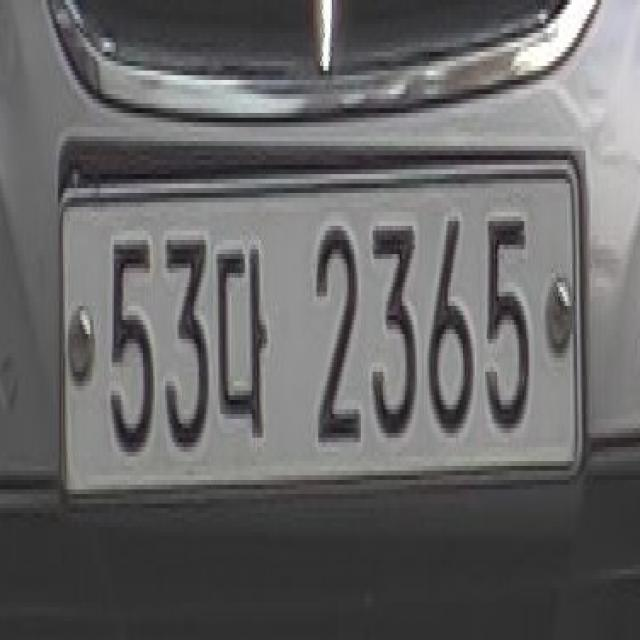2: (310, 207, 376, 485)
3: (158, 212, 216, 461), (369, 207, 422, 461)
5: (478, 193, 543, 452), (95, 226, 162, 461)
6: (421, 212, 478, 461)
da: (216, 221, 276, 457)
license_plate: (56, 136, 591, 532)
